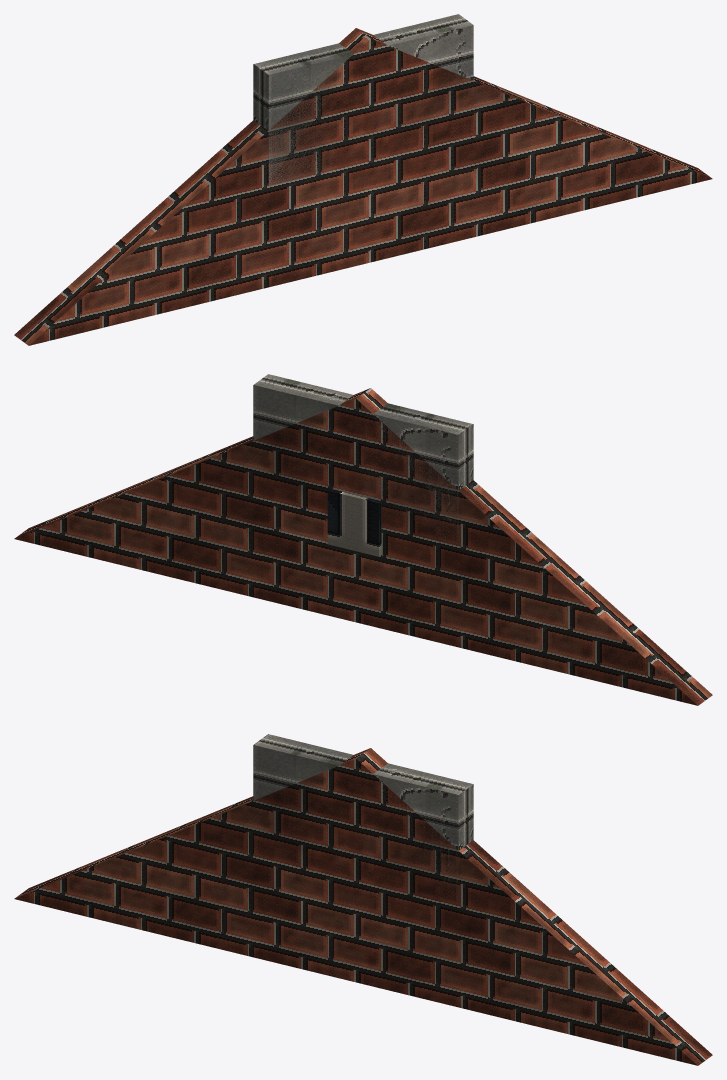
The model's file is gable_brick_8.glb.
3 views of the same model, one above another, from view 1: azimuth 30°, elevation 25°; view 2: azimuth 150°, elevation 25°; view 3: azimuth 330°, elevation 25° (orthographic).
Visible parts, largest first — view 1: gable_brick_8_mesh, gable_brick_8_col-colonly.001; view 2: gable_brick_8_mesh, gable_brick_8_col-colonly.001; view 3: gable_brick_8_mesh, gable_brick_8_col-colonly.001.
Boxes of the visible parts, box(x1,y1,x2,y2) form: gable_brick_8_mesh: box(14, 28, 712, 345); gable_brick_8_col-colonly.001: box(253, 14, 473, 186); gable_brick_8_mesh: box(14, 388, 712, 705); gable_brick_8_col-colonly.001: box(253, 374, 473, 544); gable_brick_8_mesh: box(14, 748, 712, 1065); gable_brick_8_col-colonly.001: box(253, 734, 473, 900).
Size of what is drawn, in the model's own units: 8 by 2.5 by 0.355.
Materials: 3 (3 with a texture image).
